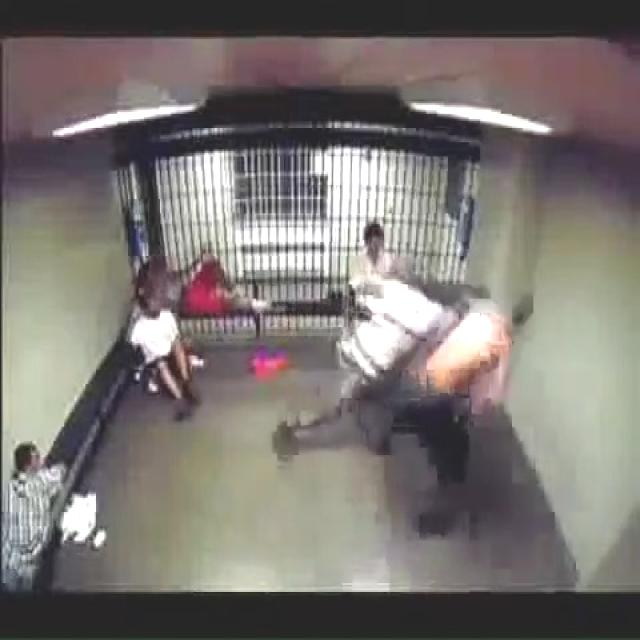fight: (338, 267, 536, 540)
